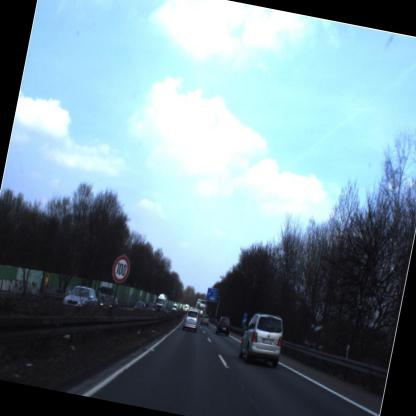prohibitory: (109, 248, 132, 286)
